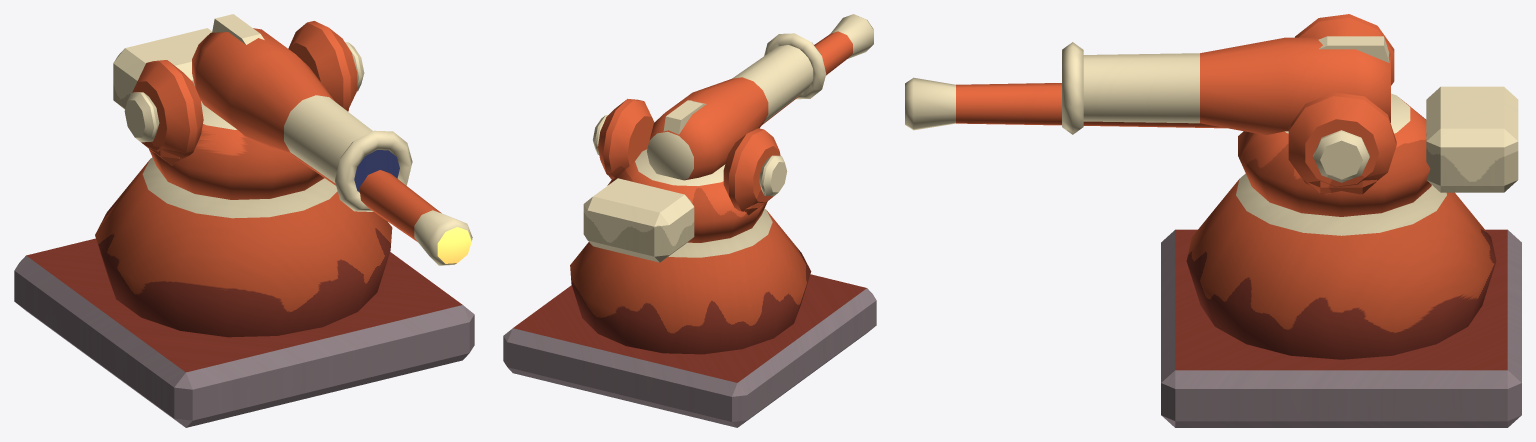
File: R4W_Basic_LOD1.glb
The picture shows the model from 3 angles, left to right: view 1: azimuth 30°, elevation 25°; view 2: azimuth 150°, elevation 25°; view 3: azimuth 270°, elevation 25°; orthographic projection. The views are drawn at different scales.
Parts seen in each view (by area): view 1: R4W_Basic_LOD1; view 2: R4W_Basic_LOD1; view 3: R4W_Basic_LOD1.
Part boxes in pixels (left/top/right/bottom): R4W_Basic_LOD1: left=14, top=14, right=474, bottom=427; R4W_Basic_LOD1: left=503, top=14, right=876, bottom=427; R4W_Basic_LOD1: left=905, top=14, right=1521, bottom=427.
Size of the model in its own units: 0.51 by 0.494 by 0.872.
Materials: 4 (3 with a texture image).
